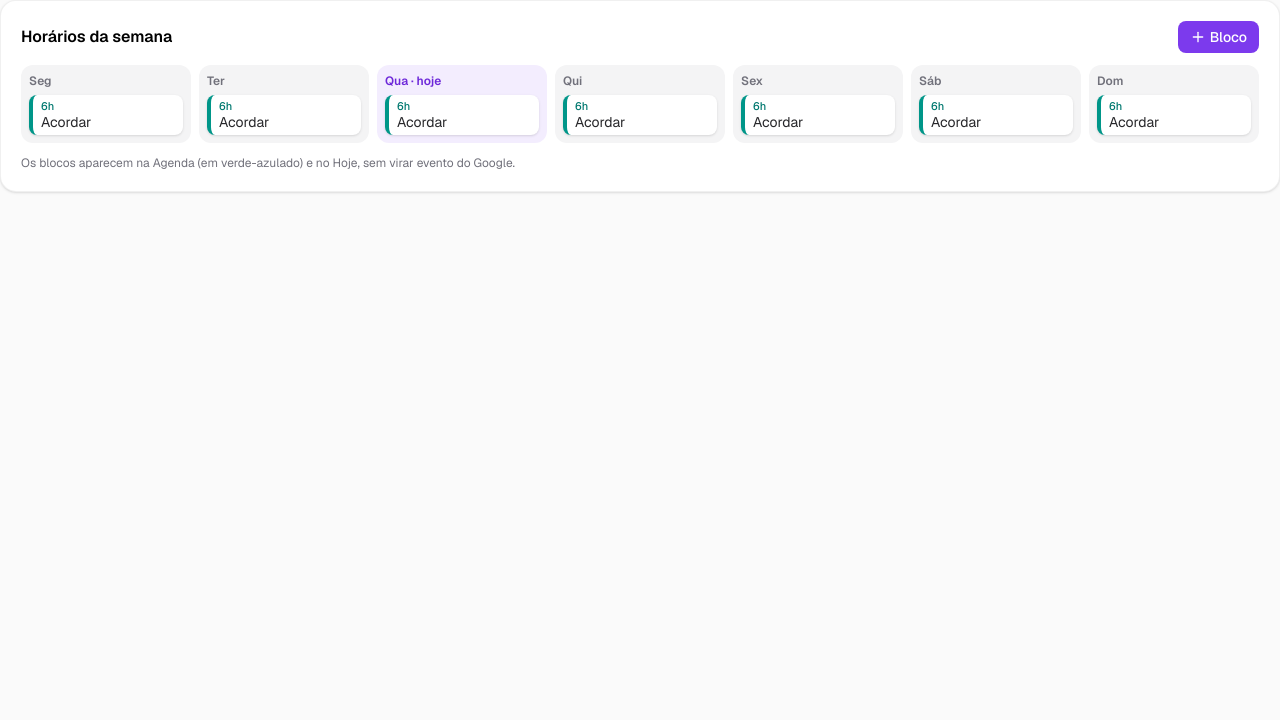
Test: RoutineSchedule › cria um bloco e mostra o que o servidor devolveu
The image size is (1280, 720).
Click the button "Bloco".
click(1218, 37)  # box top-left (1178, 21), bottom-right (1259, 53)
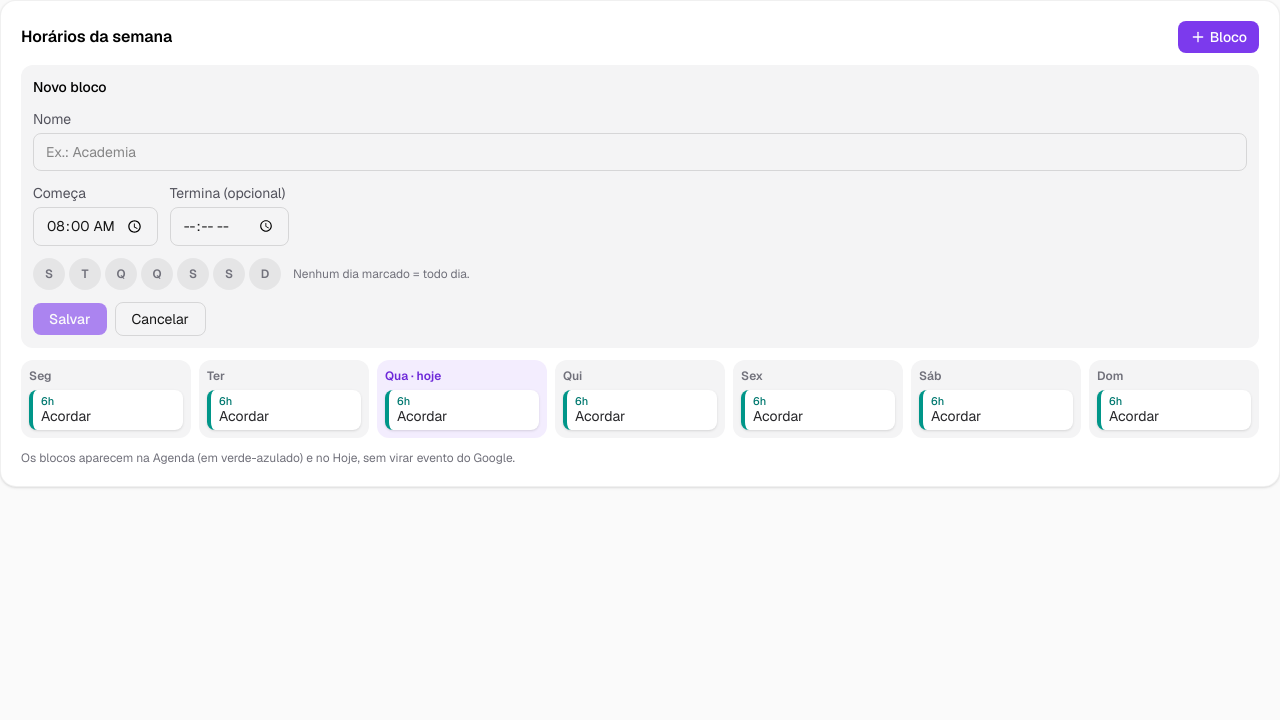
Type "Almoço" into the field labelled "Nome".
click(640, 152); type("Almoço")  # box top-left (33, 133), bottom-right (1247, 171)
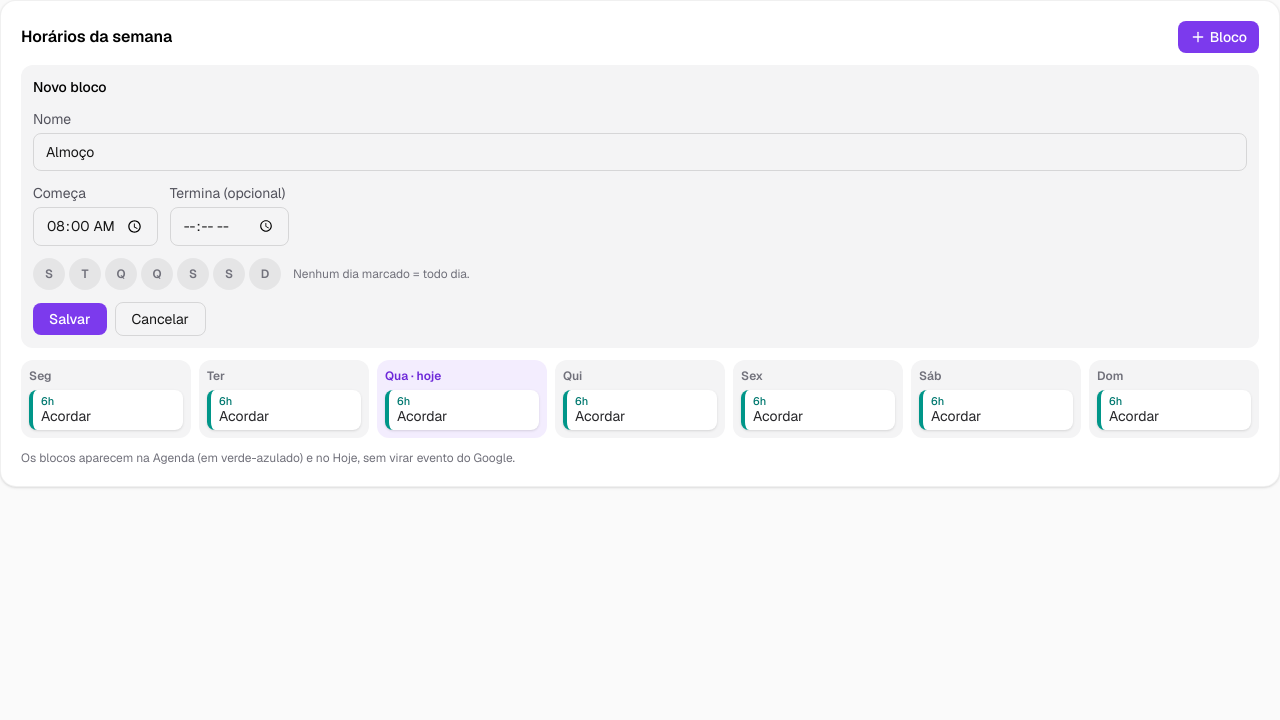
Replace the text in the time field labelled "Começa" with "13:00" at (95, 226), box top-left (33, 207), bottom-right (158, 246)
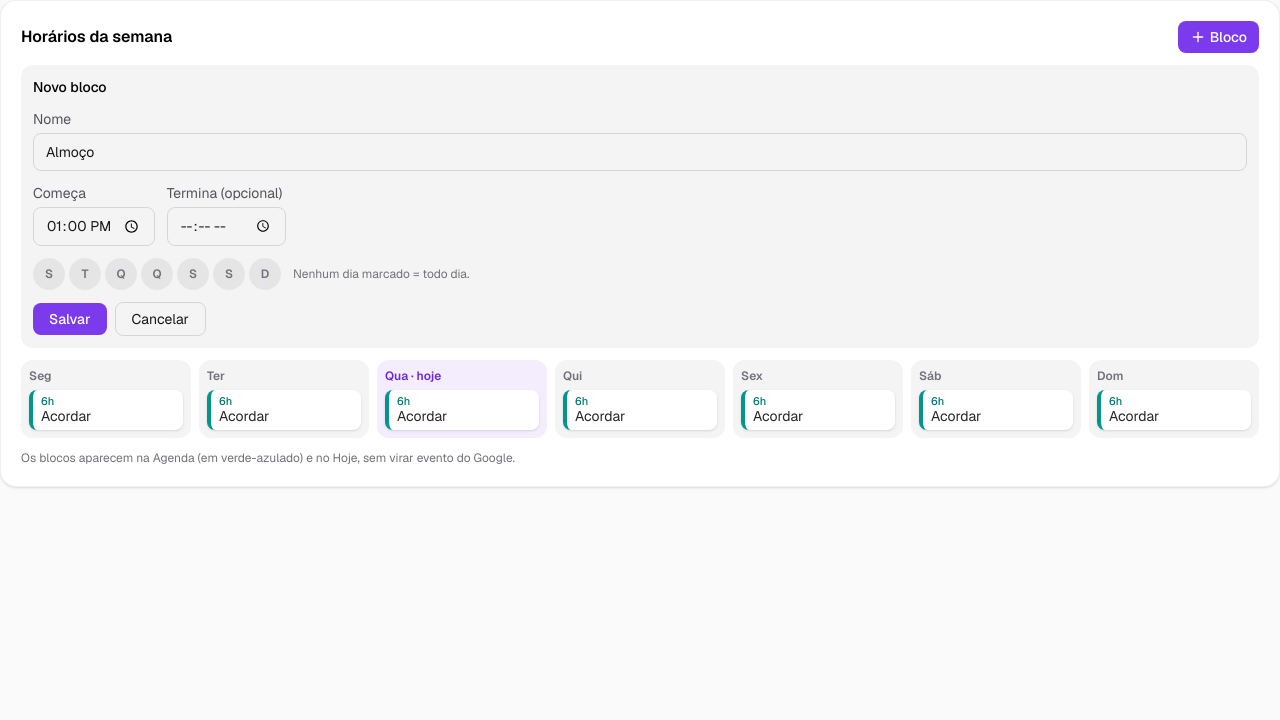
Type "14:00" into the time field labelled "Termina (opcional)".
click(227, 226); type("14:00")  # box top-left (167, 207), bottom-right (286, 246)
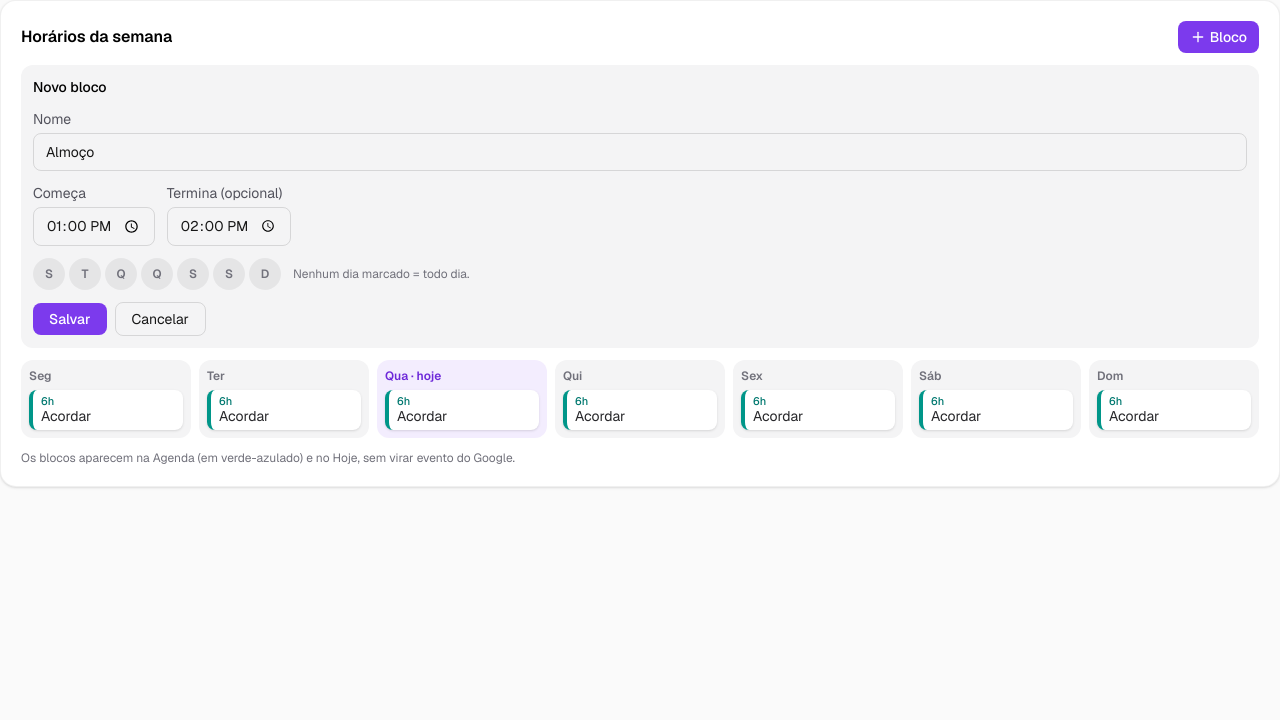
Click the button named "Segunda".
click(49, 274)  # box top-left (33, 258), bottom-right (65, 290)
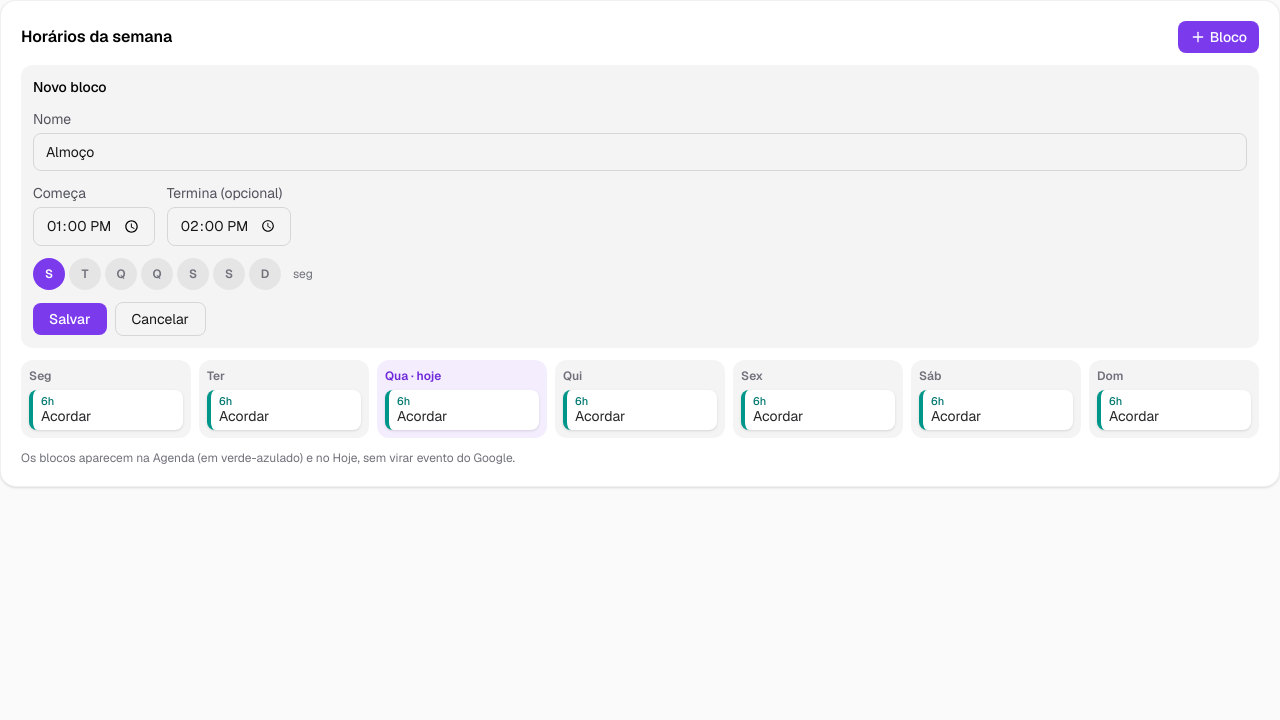
Click the button "Salvar".
click(70, 319)  # box top-left (33, 303), bottom-right (106, 335)
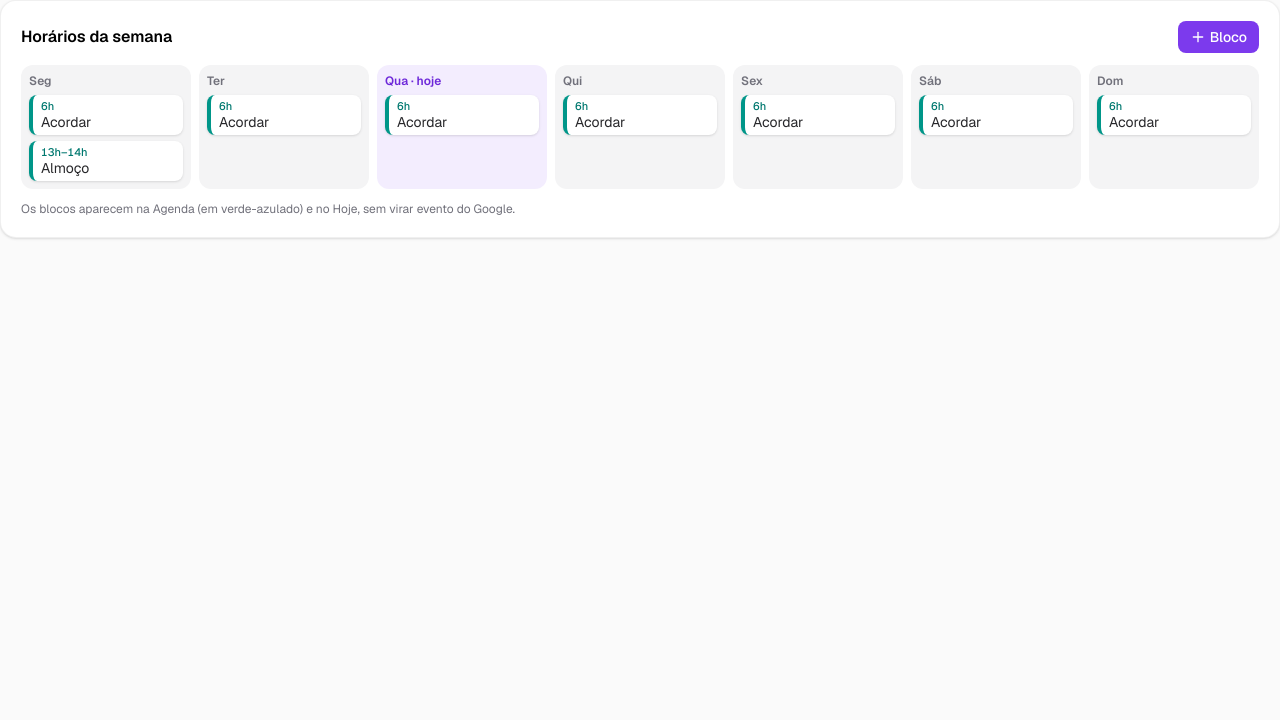
Expected: the text "Almoço" is shown, top-left (41, 159), bottom-right (89, 177)
